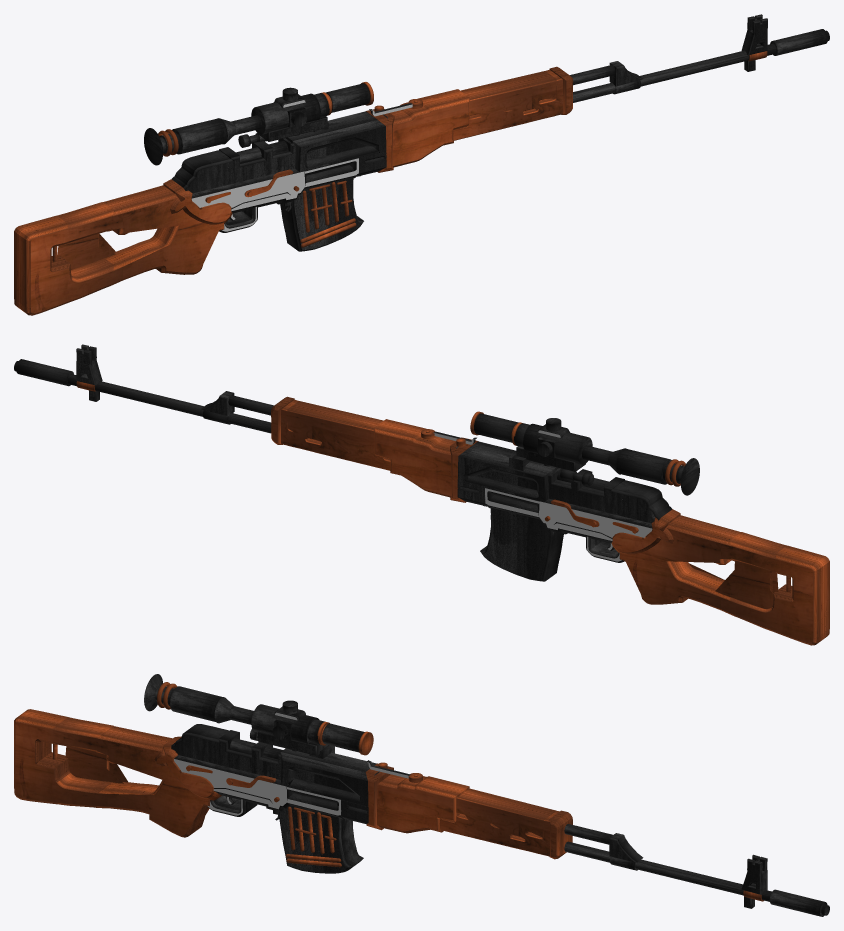
File: dragunov.dae
3 views of the same model, one above another, from view 1: azimuth 30°, elevation 25°; view 2: azimuth 150°, elevation 25°; view 3: azimuth 330°, elevation 25° (orthographic).
Visible parts, largest first — view 1: Tappo_1 (×14), Stondatura_1 (×6), Cilindro.15, Estrusione_NURBS.1, Estrusione_NURBS, Cilindro.4, Cilindro.11, Estrusione_NURBS.30, Cilindro.17, Cilindro.2, Estrusione_NURBS.16, Estrusione_NURBS.28 (+2 smaller); view 2: Tappo_2 (×14), Stondatura_2 (×6), Cilindro.15, Estrusione_NURBS, Estrusione_NURBS.1, Cilindro.4, Cilindro.11, Estrusione_NURBS.30, Cilindro.17, Cilindro.2, Estrusione_NURBS.16, Estrusione_NURBS.28 (+2 smaller); view 3: Tappo_1 (×17), Stondatura_1 (×7), Cilindro.15, Estrusione_NURBS.1, Cilindro.11, Cilindro.4, Estrusione_NURBS.30, Estrusione_NURBS, Cilindro.17, Cilindro.2, Estrusione_NURBS.28, Estrusione_NURBS.24 (+3 smaller).
Part boxes in pixels (x1=…): Tappo_1 (×14): x1=30, y1=79, x2=563, y2=313; Stondatura_1 (×6): x1=26, y1=97, x2=469, y2=315; Cilindro.15: x1=573, y1=30, x2=829, y2=102; Estrusione_NURBS.1: x1=103, y1=185, x2=174, y2=272; Estrusione_NURBS: x1=14, y1=215, x2=69, y2=314; Cilindro.4: x1=251, y1=93, x2=320, y2=134; Cilindro.11: x1=172, y1=118, x2=227, y2=154; Estrusione_NURBS.30: x1=461, y1=71, x2=556, y2=102; Cilindro.17: x1=770, y1=29, x2=827, y2=55; Cilindro.2: x1=325, y1=83, x2=370, y2=112; Estrusione_NURBS.16: x1=172, y1=150, x2=230, y2=187; Estrusione_NURBS.28: x1=390, y1=89, x2=469, y2=120; Tappo_2 (×14): x1=281, y1=409, x2=813, y2=643; Stondatura_2 (×6): x1=374, y1=428, x2=817, y2=645; Cilindro.15: x1=14, y1=361, x2=271, y2=433; Estrusione_NURBS: x1=774, y1=545, x2=829, y2=643; Estrusione_NURBS.1: x1=669, y1=515, x2=740, y2=602; Cilindro.4: x1=523, y1=423, x2=592, y2=464; Cilindro.11: x1=616, y1=448, x2=671, y2=484; Estrusione_NURBS.30: x1=287, y1=401, x2=383, y2=438; Cilindro.17: x1=16, y1=359, x2=73, y2=386; Cilindro.2: x1=474, y1=413, x2=518, y2=442; Estrusione_NURBS.16: x1=613, y1=480, x2=672, y2=517; Estrusione_NURBS.28: x1=374, y1=419, x2=455, y2=450; Tappo_1 (×17): x1=15, y1=722, x2=549, y2=872; Stondatura_1 (×7): x1=14, y1=717, x2=457, y2=837; Cilindro.15: x1=564, y1=841, x2=829, y2=915; Estrusione_NURBS.1: x1=102, y1=726, x2=207, y2=834; Cilindro.11: x1=170, y1=686, x2=222, y2=721; Cilindro.4: x1=251, y1=704, x2=319, y2=743; Estrusione_NURBS.30: x1=458, y1=788, x2=556, y2=834; Estrusione_NURBS: x1=16, y1=709, x2=70, y2=779; Cilindro.17: x1=769, y1=889, x2=827, y2=916; Cilindro.2: x1=322, y1=723, x2=364, y2=752; Estrusione_NURBS.28: x1=382, y1=774, x2=469, y2=832; Estrusione_NURBS.24: x1=281, y1=748, x2=379, y2=774.
Bounding box in the file's own units: 788 × 148 × 36.66.
Materials: 4 (3 with a texture image).
